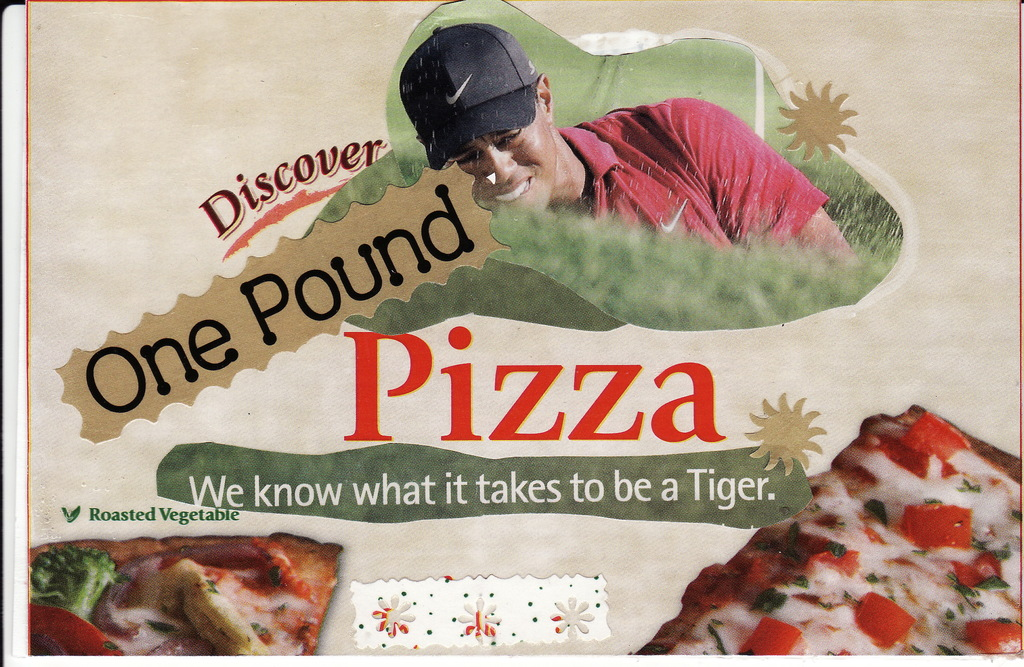Pizza: (651, 400, 1021, 659), (33, 534, 353, 666)
